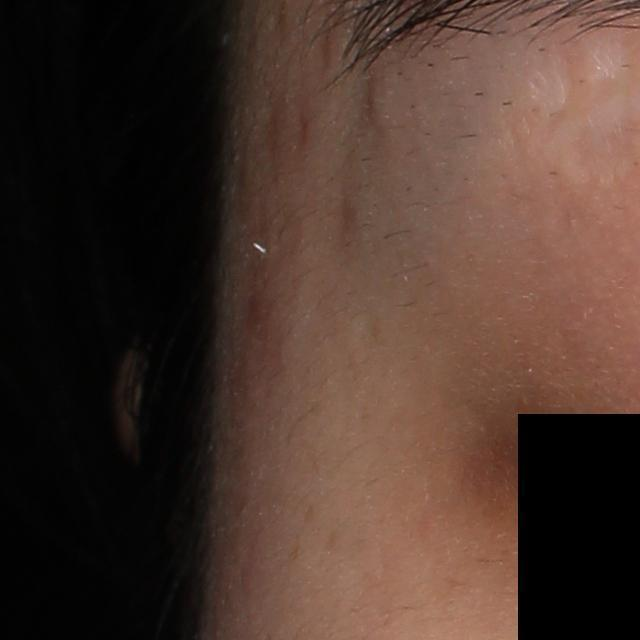other: (514, 40, 578, 128), (574, 28, 635, 100)
